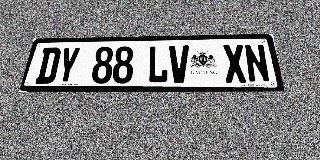8: (90, 46, 115, 83), (111, 46, 135, 83)
D: (35, 47, 62, 84)
L: (147, 46, 168, 83)
N: (243, 44, 271, 83)
V: (169, 45, 190, 83)
X: (222, 44, 248, 83)
Y: (55, 47, 81, 84)
